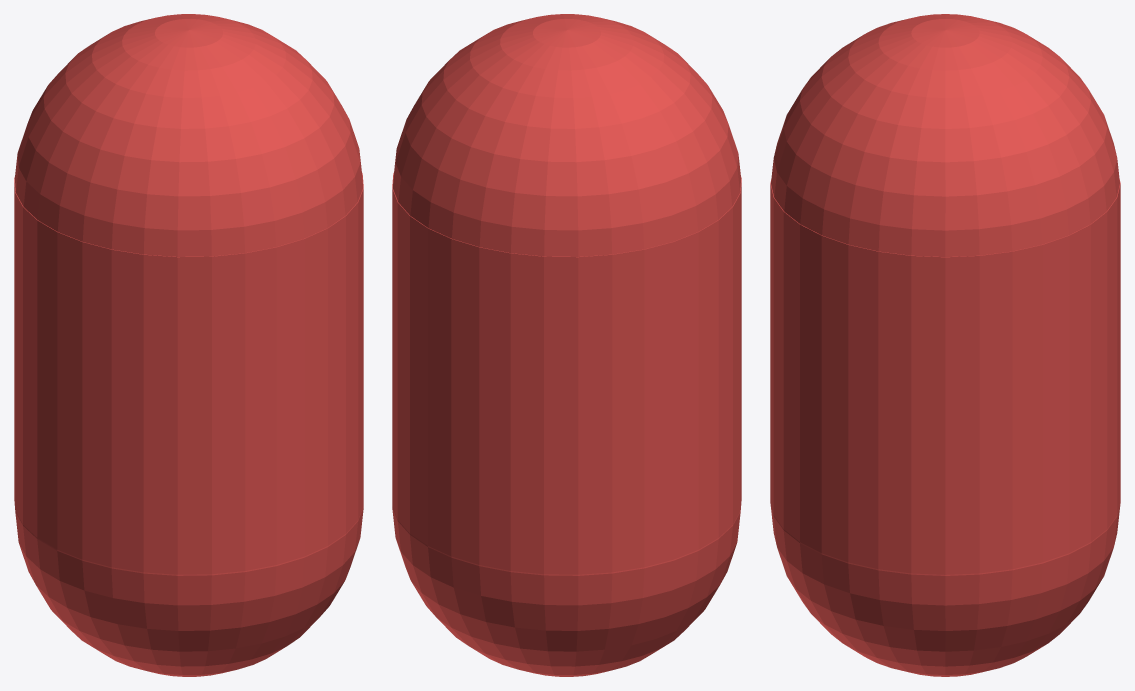
The picture shows the model from 3 angles, left to right: view 1: azimuth 30°, elevation 25°; view 2: azimuth 150°, elevation 25°; view 3: azimuth 270°, elevation 25°; orthographic projection.
Visible parts, largest first — view 1: Cylinder, Sphere, Sphere.001; view 2: Cylinder, Sphere, Sphere.001; view 3: Cylinder, Sphere, Sphere.001.
Boxes of the visible parts, box(x1,y1,x2,y2) form: Cylinder: box(14, 173, 363, 574); Sphere: box(14, 14, 362, 256); Sphere.001: box(14, 500, 363, 676); Cylinder: box(392, 173, 741, 574); Sphere: box(393, 14, 741, 256); Sphere.001: box(392, 500, 741, 676); Cylinder: box(770, 180, 1120, 574); Sphere: box(771, 14, 1119, 256); Sphere.001: box(770, 502, 1120, 676).
Size of the model in its own units: 2 by 3.97 by 2.
